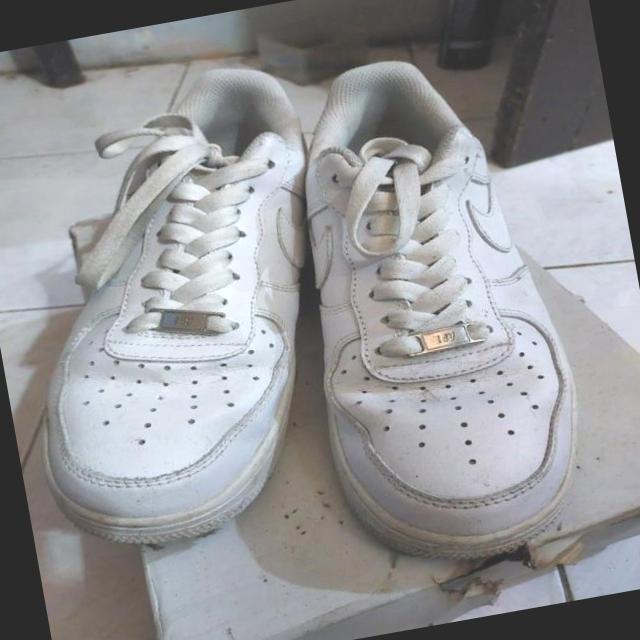nike_original_airforce: (0, 44, 375, 563), (266, 37, 608, 584)
